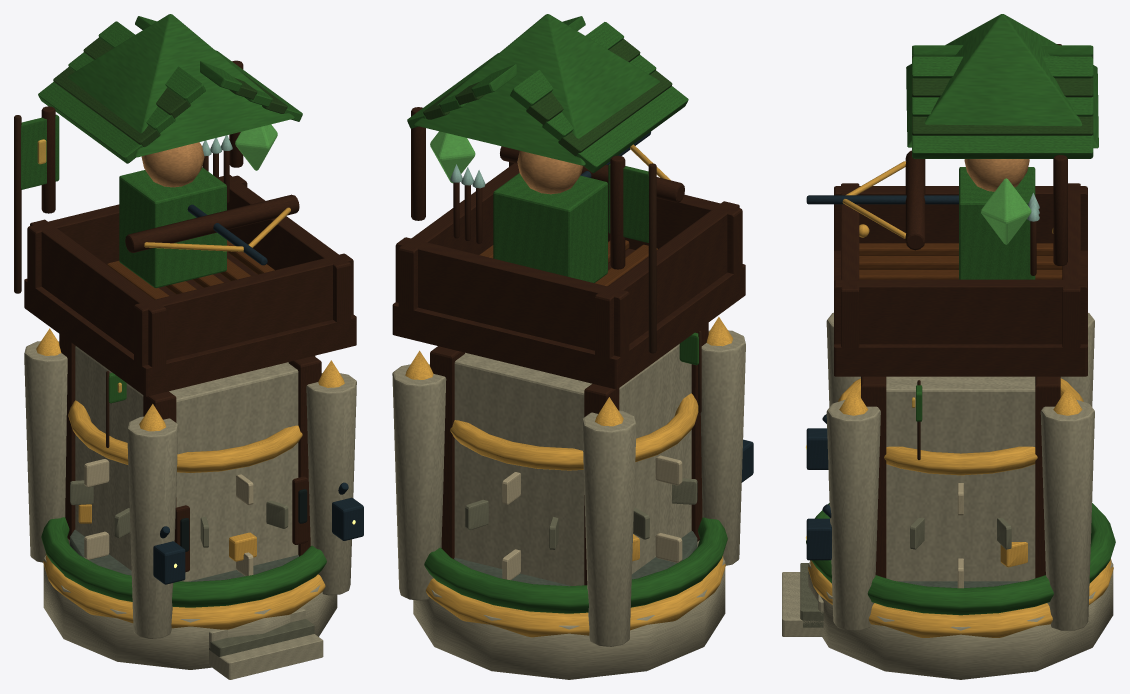
Rendered from tower-arrow-3-0.glb.
3 renders of one model, left to right at view 1: azimuth 30°, elevation 25°; view 2: azimuth 150°, elevation 25°; view 3: azimuth 270°, elevation 25°, orthographic. The views are drawn at different scales.
Visible parts, largest first — view 1: Foundation, Turret, arrow-L3-0; view 2: Foundation, Turret, arrow-L3-0; view 3: Turret, Foundation, arrow-L3-0.
Part boxes in pixels (bbox=[...]): Foundation: bbox=[14, 114, 363, 679]; Turret: bbox=[24, 14, 356, 396]; arrow-L3-0: bbox=[43, 529, 337, 669]; Foundation: bbox=[392, 163, 753, 646]; Turret: bbox=[392, 14, 745, 389]; arrow-L3-0: bbox=[413, 531, 725, 679]; Turret: bbox=[806, 14, 1098, 376]; Foundation: bbox=[782, 44, 1115, 637]; arrow-L3-0: bbox=[808, 560, 1113, 679].
Bounding box in the file's own units: 1.71 × 3.66 × 1.84.
Materials: 18 (18 with a texture image).
